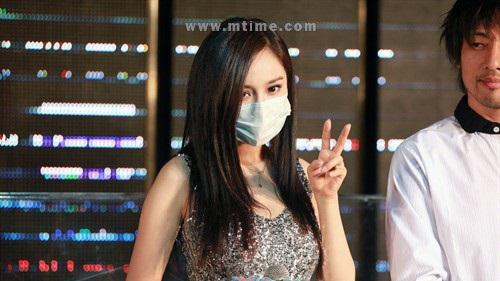NONE: (464, 32, 500, 109)
OK: (220, 72, 294, 146)
